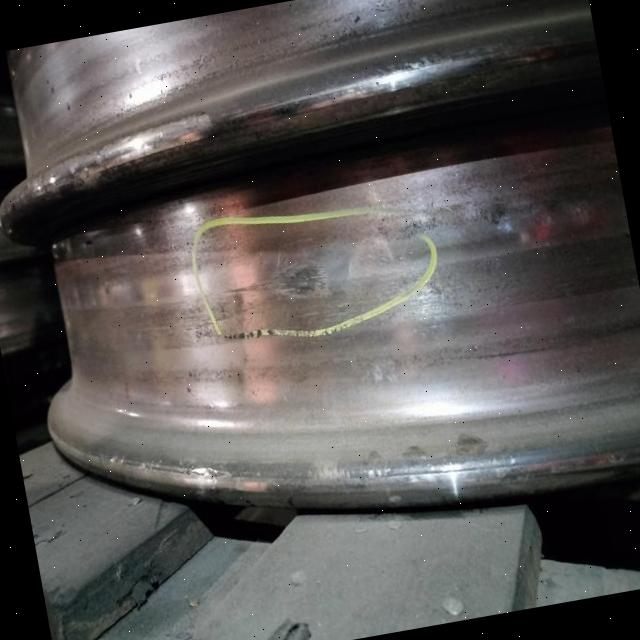flat: (205, 227, 420, 334)
